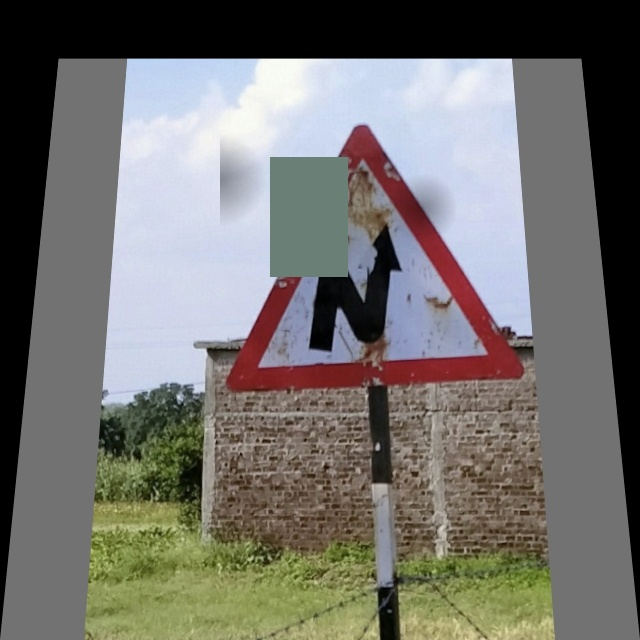Right_Reverse_Bend: (220, 124, 525, 380)
